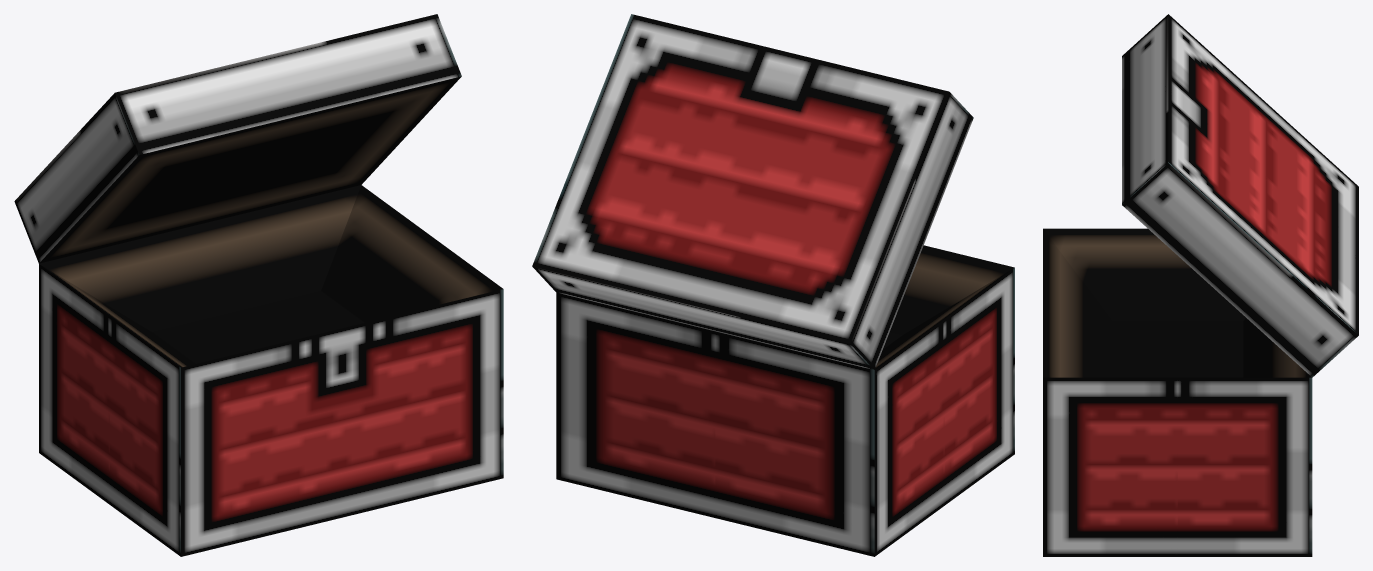
File: deco_winter_chestSmallOpen.FBX
The picture shows the model from 3 angles, left to right: view 1: azimuth 30°, elevation 25°; view 2: azimuth 150°, elevation 25°; view 3: azimuth 270°, elevation 25°; orthographic projection. The views are drawn at different scales.
Parts seen in each view (by area): view 1: deco_winter_chestSmallOpen; view 2: deco_winter_chestSmallOpen; view 3: deco_winter_chestSmallOpen.
Part boxes in pixels (left/top/right/bottom): deco_winter_chestSmallOpen: left=14, top=14, right=503, bottom=556; deco_winter_chestSmallOpen: left=532, top=14, right=1014, bottom=556; deco_winter_chestSmallOpen: left=1043, top=14, right=1358, bottom=556.
Bounding box in the file's own units: 1.55 × 1.91 × 1.39.
Materials: 1 (1 with a texture image).
